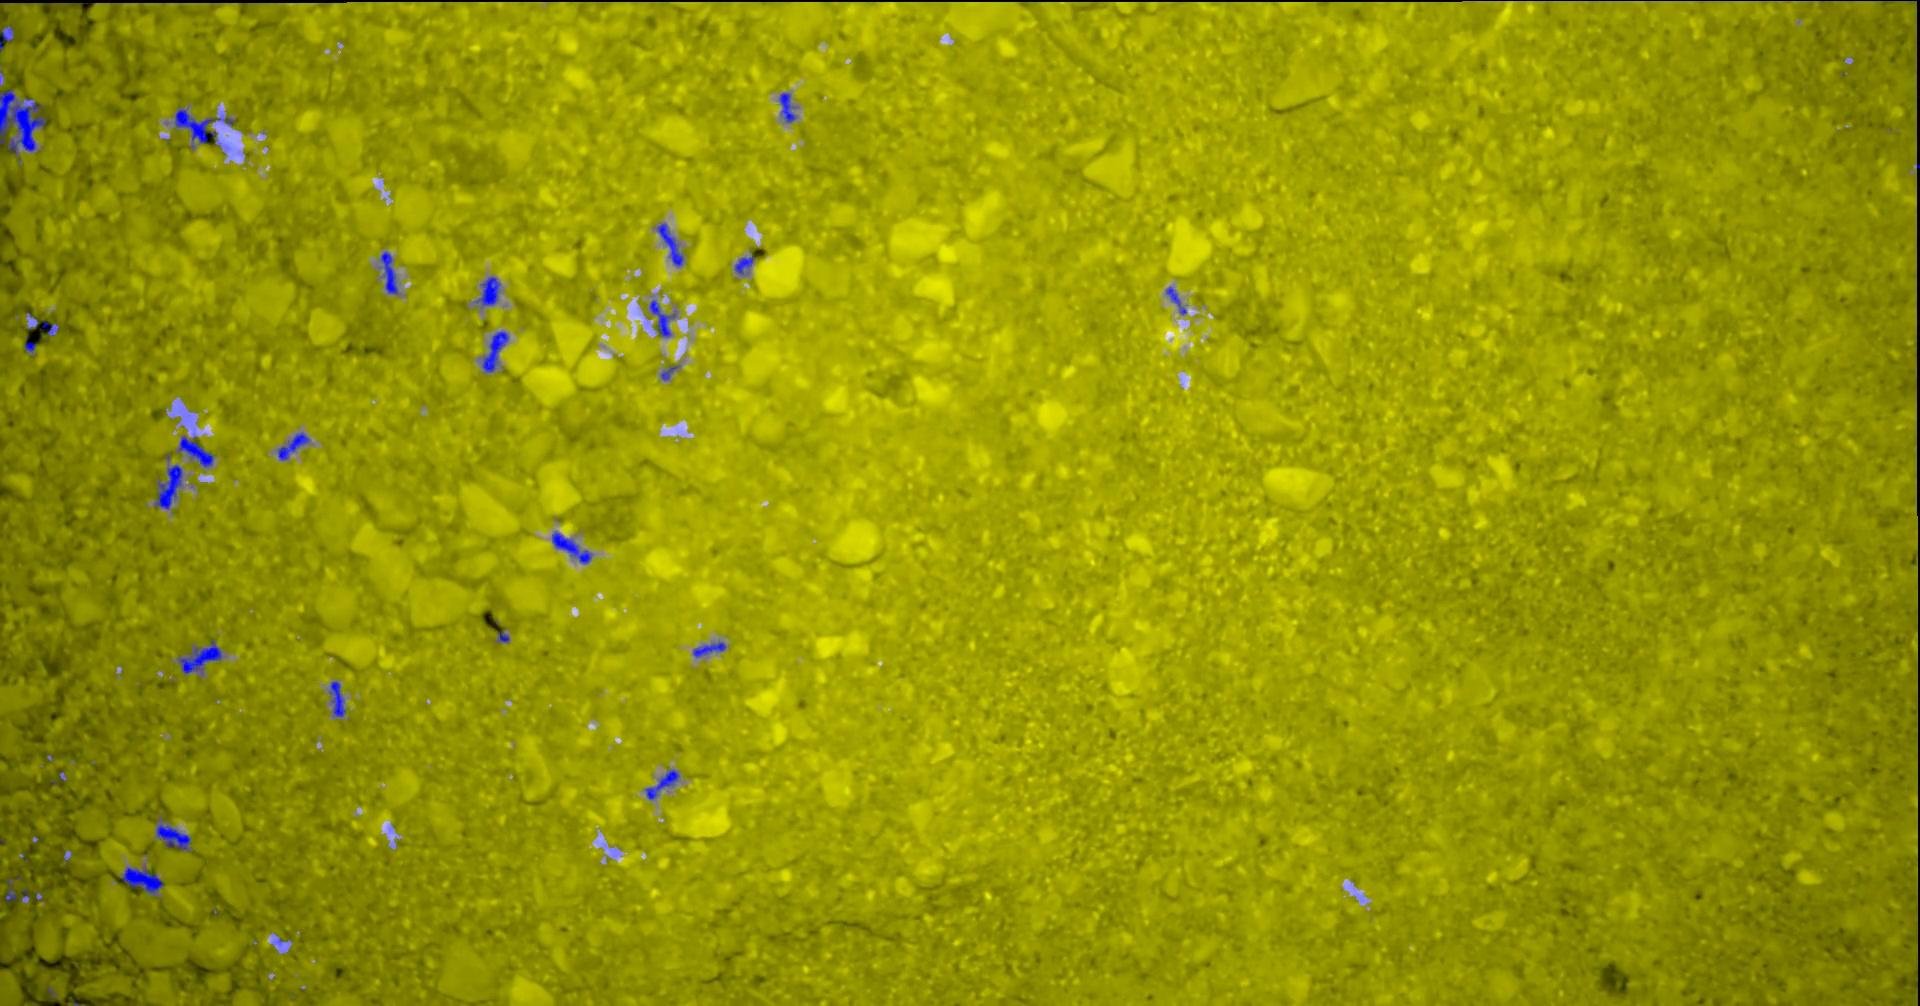ant: (173, 108, 234, 149), (178, 639, 221, 674), (551, 530, 592, 563), (154, 464, 182, 509), (121, 868, 163, 895), (177, 436, 213, 467), (155, 818, 190, 850), (657, 224, 683, 265), (481, 332, 508, 372), (644, 768, 678, 799), (649, 298, 676, 337), (277, 432, 309, 459), (25, 311, 58, 335), (380, 251, 397, 293), (475, 276, 500, 305), (328, 680, 345, 716), (1164, 286, 1186, 314), (692, 641, 725, 657), (778, 93, 795, 122), (734, 254, 754, 274), (0, 25, 13, 50), (4, 878, 17, 901), (660, 365, 678, 380), (24, 337, 36, 352), (497, 631, 509, 641)
